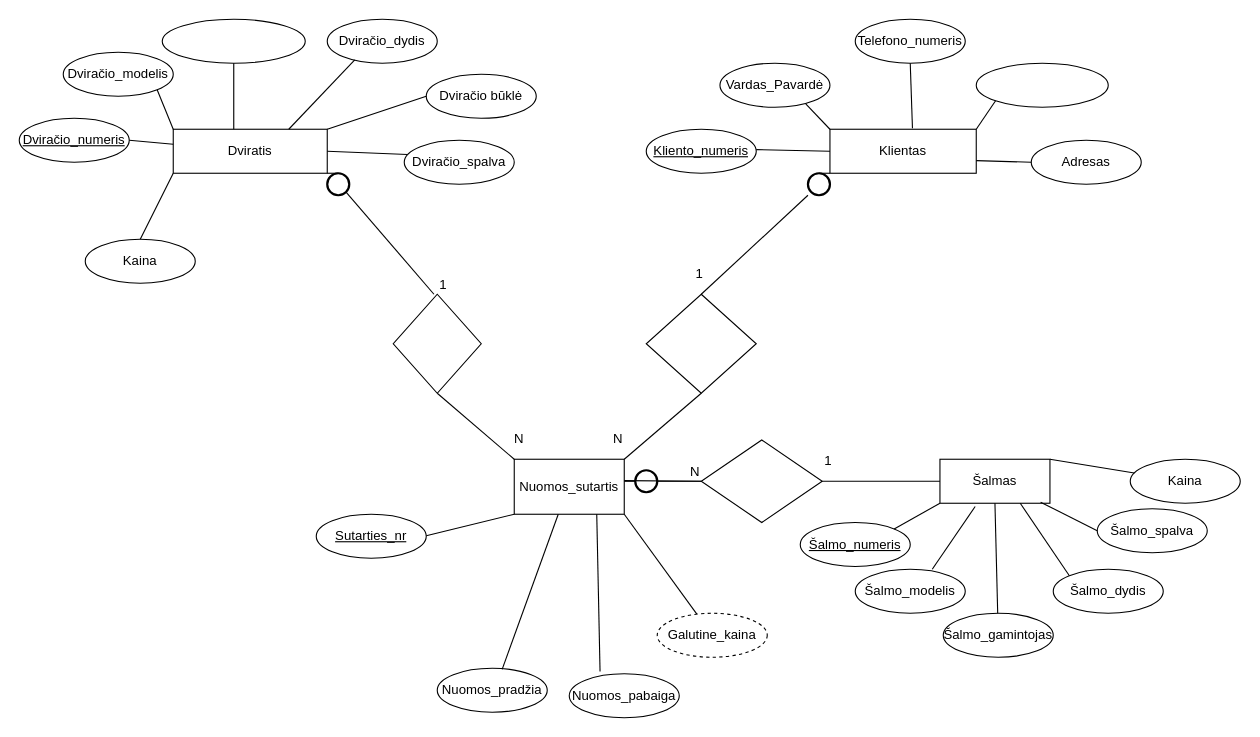
Image size: 1260x737. Some labels were removed from this diagram. Each missing label, with the centre of its shape:
"Dviračio_gamintojas" belongs at (x=233, y=40).
"Elektroninis_paštas" belongs at (x=1041, y=84).
"Nuomojamas" belongs at (x=436, y=343).
"Pridedamas" belongs at (x=761, y=480).
"Sudaro" belongs at (x=700, y=343).
